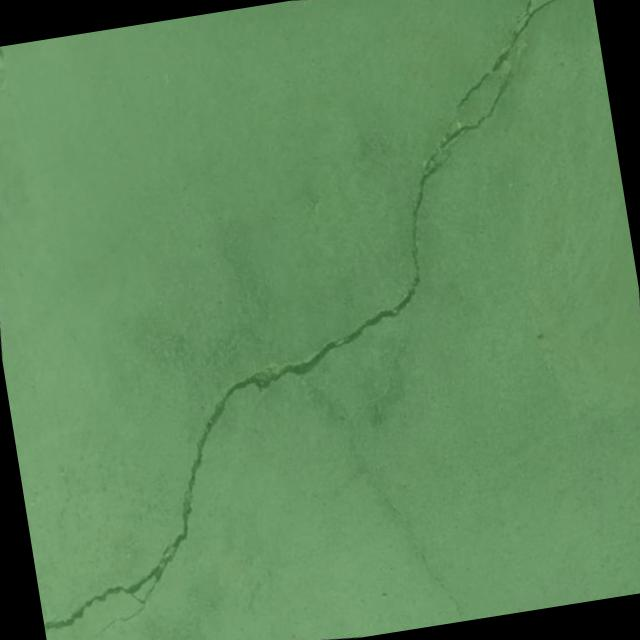crack: (0, 22, 601, 640), (438, 0, 599, 121)
